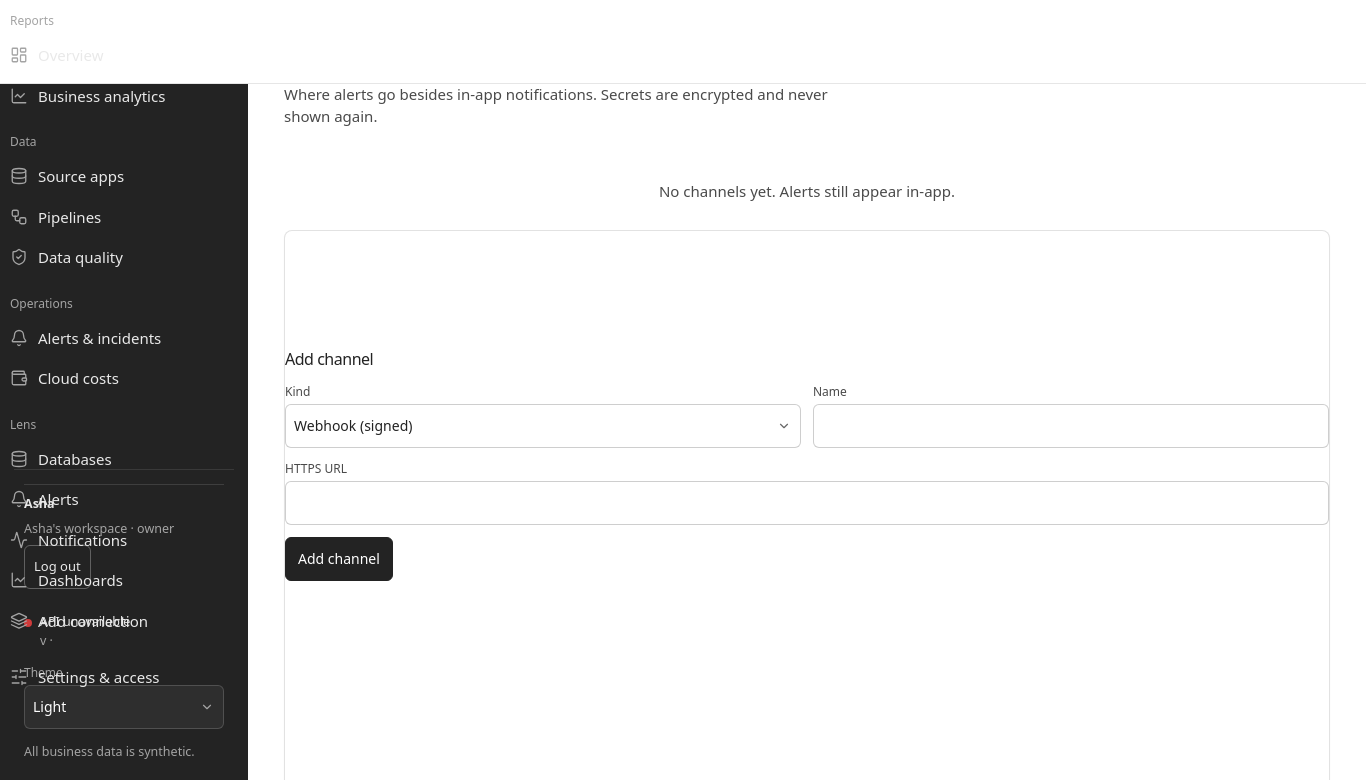
Test: Lens alerts › shows a webhook signing secret once, right after creating the channel
Type "Ops hook" into the field labelled "Name". click: (1071,426)
box: [813,404,1329,448]
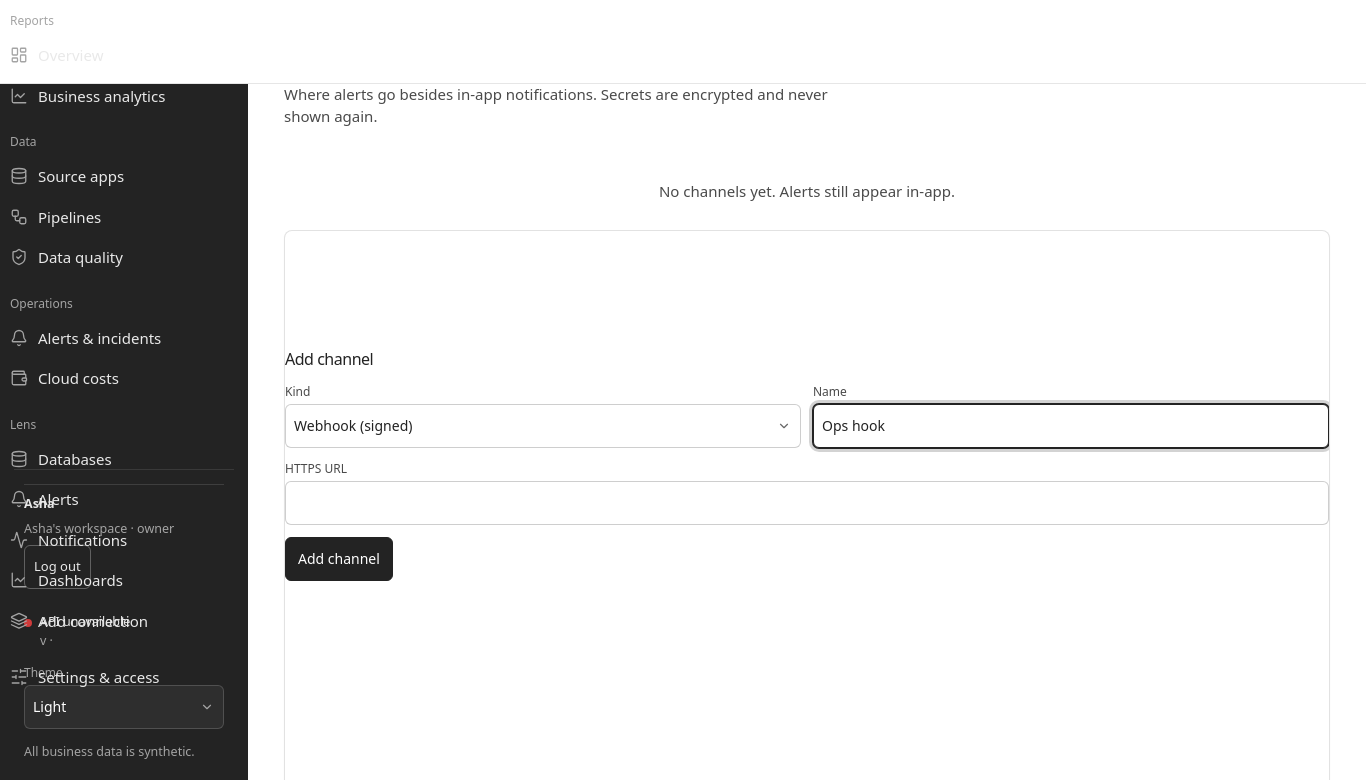
Type "https://hooks.example.com/lens" into the field labelled "HTTPS URL". click: (807,503)
box: [285,481,1329,525]
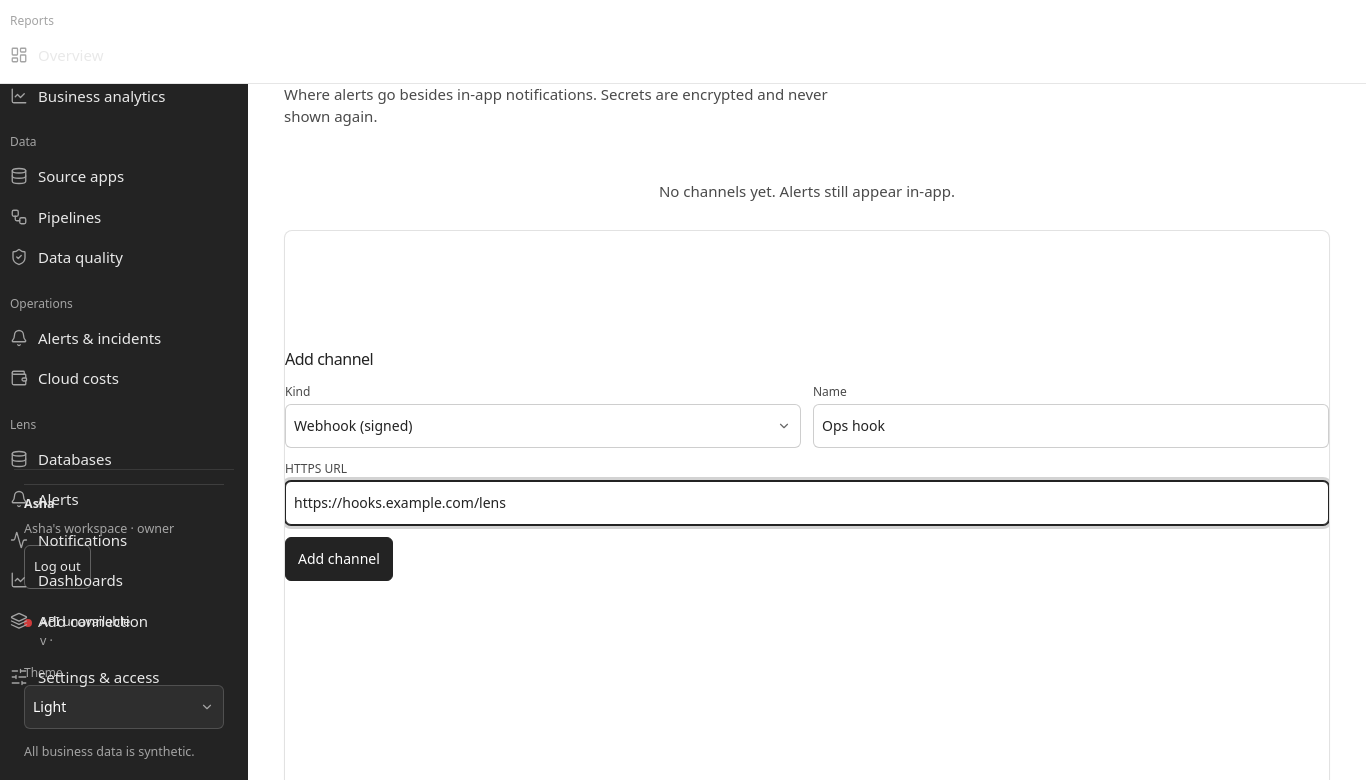
Click the button "Add channel". click: (339,559)
box: [285,537,393,581]
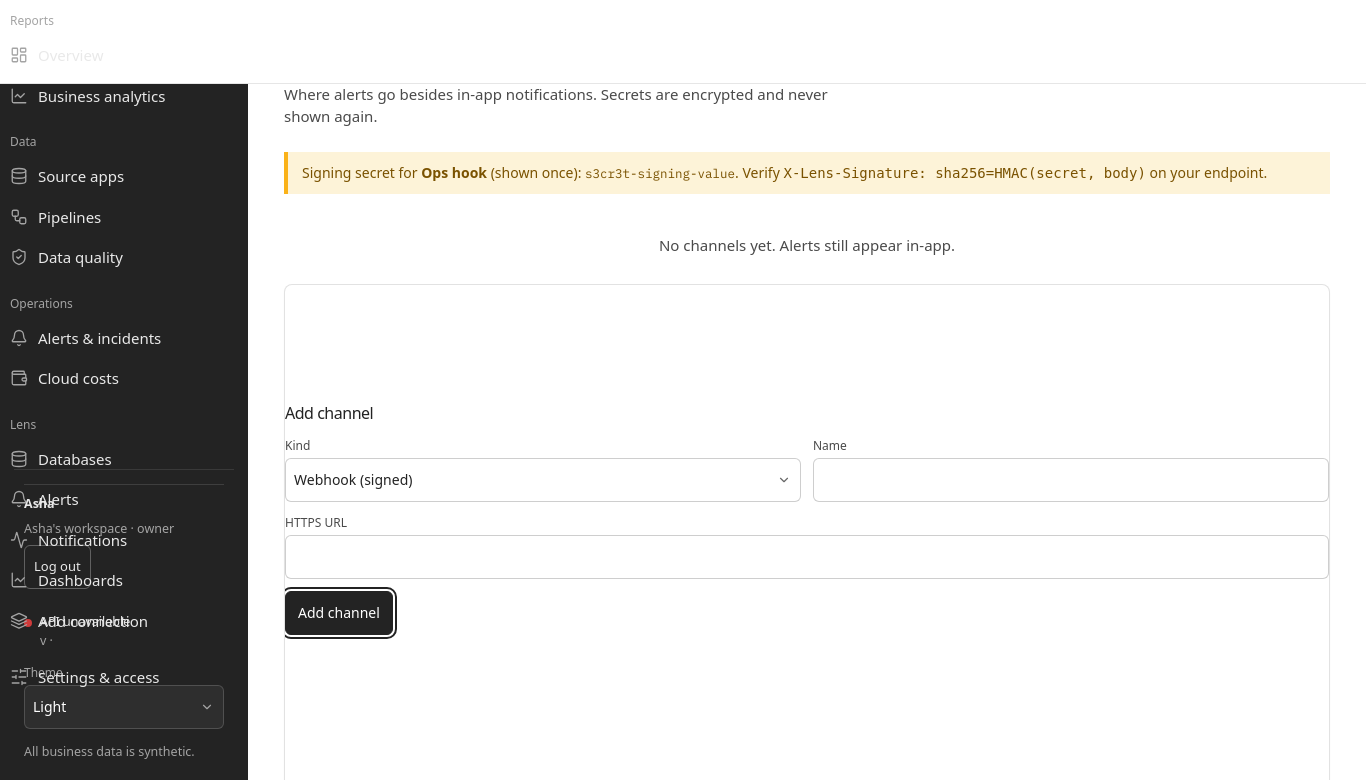
Check: the text "s3cr3t-signing-value" is shown, box [585,165,735,181]
Check: the text "shown once" is shown, box [487,163,585,182]
